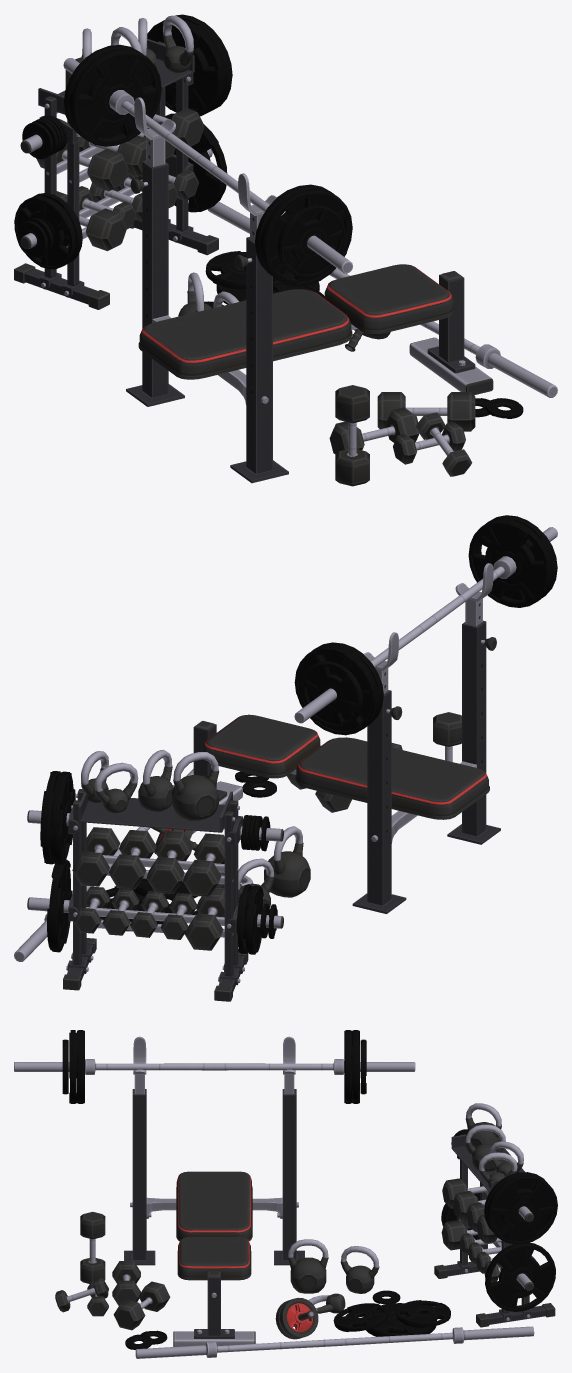
The picture shows the model from 3 angles, top to bottom: view 1: azimuth 30°, elevation 25°; view 2: azimuth 150°, elevation 25°; view 3: azimuth 270°, elevation 25°; orthographic projection. The views are drawn at different scales.
Visible parts, largest first — view 1: StaticMesh; view 2: StaticMesh; view 3: StaticMesh.
Boxes of the visible parts, <box> form: StaticMesh: <box>14,14,557,486</box>; StaticMesh: <box>14,515,557,1001</box>; StaticMesh: <box>14,1030,557,1358</box>.
Size of what is drawn, in the model's own units: 1.5 by 1.31 by 2.85.
1 material, 1 textured.
